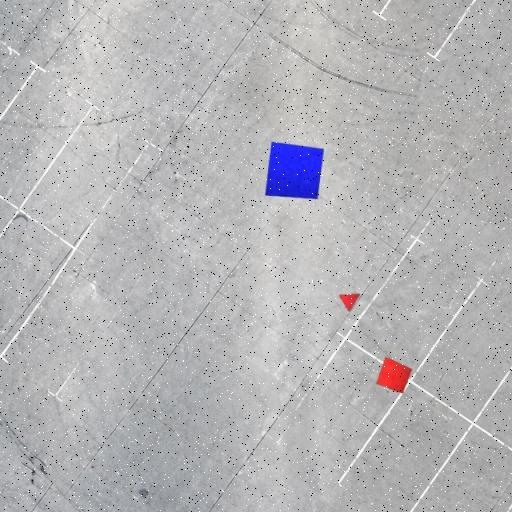BLUE_SQUARE: (265, 141, 325, 200)
RED_SQUARE: (375, 356, 413, 394)
